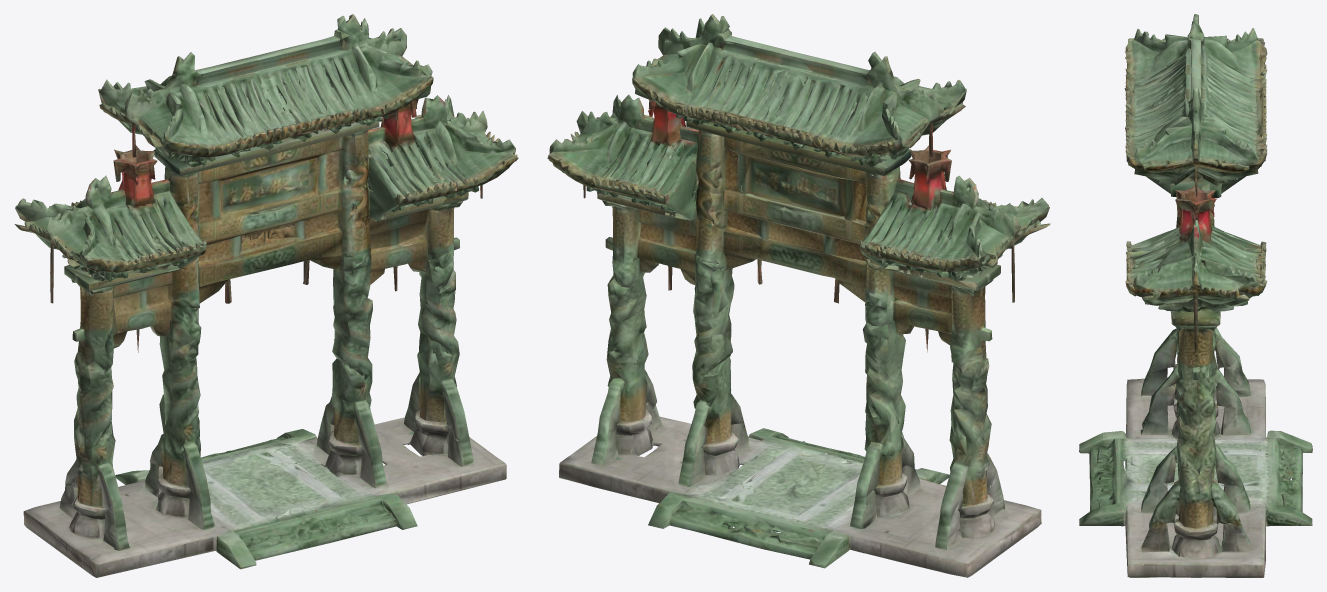
Rendered from nantian-gate.glb.
3 views of the same model, side by side, from view 1: azimuth 30°, elevation 25°; view 2: azimuth 150°, elevation 25°; view 3: azimuth 270°, elevation 25° (orthographic). The views are drawn at different scales.
Parts seen in each view (by area): view 1: geometry_0; view 2: geometry_0; view 3: geometry_0.
Boxes of the visible parts, x1,y1,x2,y2 form: geometry_0: (14, 14, 518, 577); geometry_0: (547, 14, 1050, 577); geometry_0: (1079, 14, 1312, 577).
Size of the model in its own units: 7.99 by 7.98 by 3.89.
Materials: 1 (1 with a texture image).
